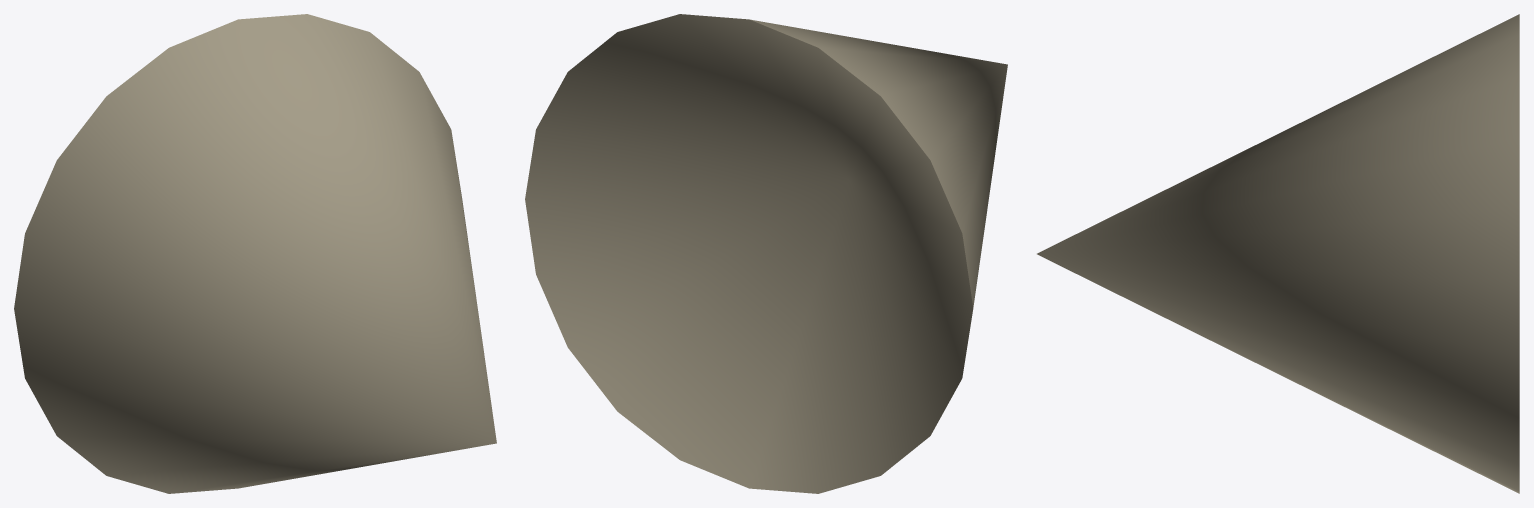
The model's file is light.obj.
3 renders of one model, left to right at view 1: azimuth 30°, elevation 25°; view 2: azimuth 150°, elevation 25°; view 3: azimuth 270°, elevation 25°, orthographic. The views are drawn at different scales.
Visible parts, largest first — view 1: light:pCone1; view 2: light:pCone1; view 3: light:pCone1.
Part boxes in pixels (<box>): light:pCone1: <box>14,14,496,493</box>; light:pCone1: <box>525,14,1007,493</box>; light:pCone1: <box>1037,14,1519,493</box>.
Bounding box in the file's own units: 20 × 20 × 20.
